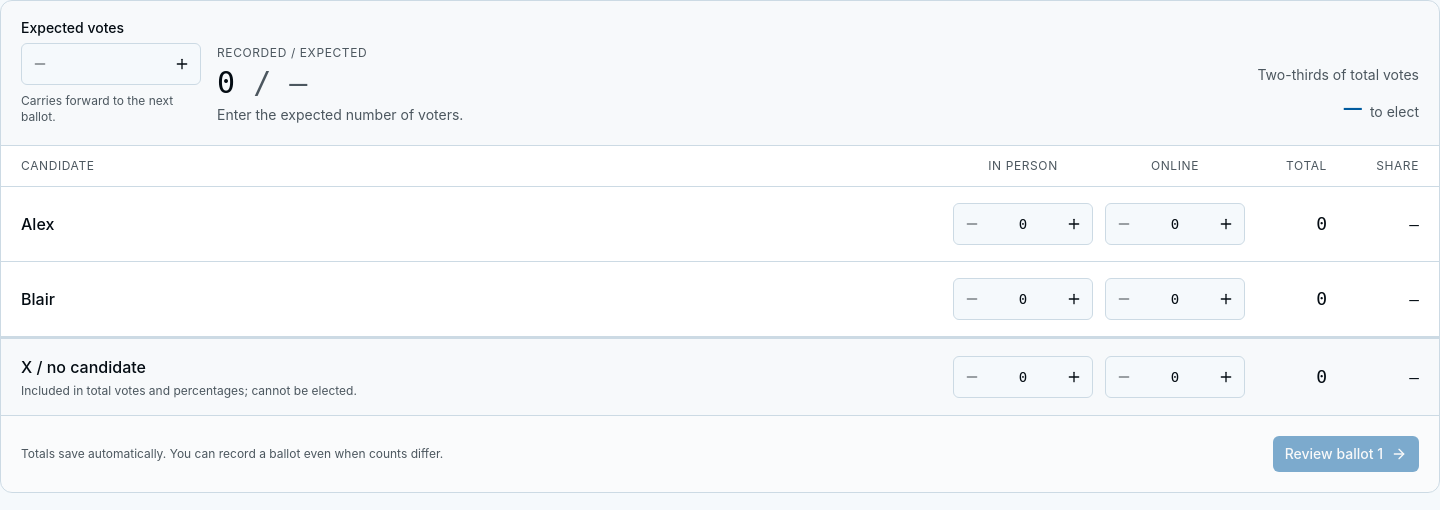
Test: election entry controls › still requires an expected count and valid whole-number counts
The width and height of the screenshot is (1440, 510).
Expected: the button "Review ballot 1" is disabled, [1273, 436, 1419, 472]
Type "100" into the number field labelled "Expected votes" at (111, 64), box [58, 44, 164, 84]
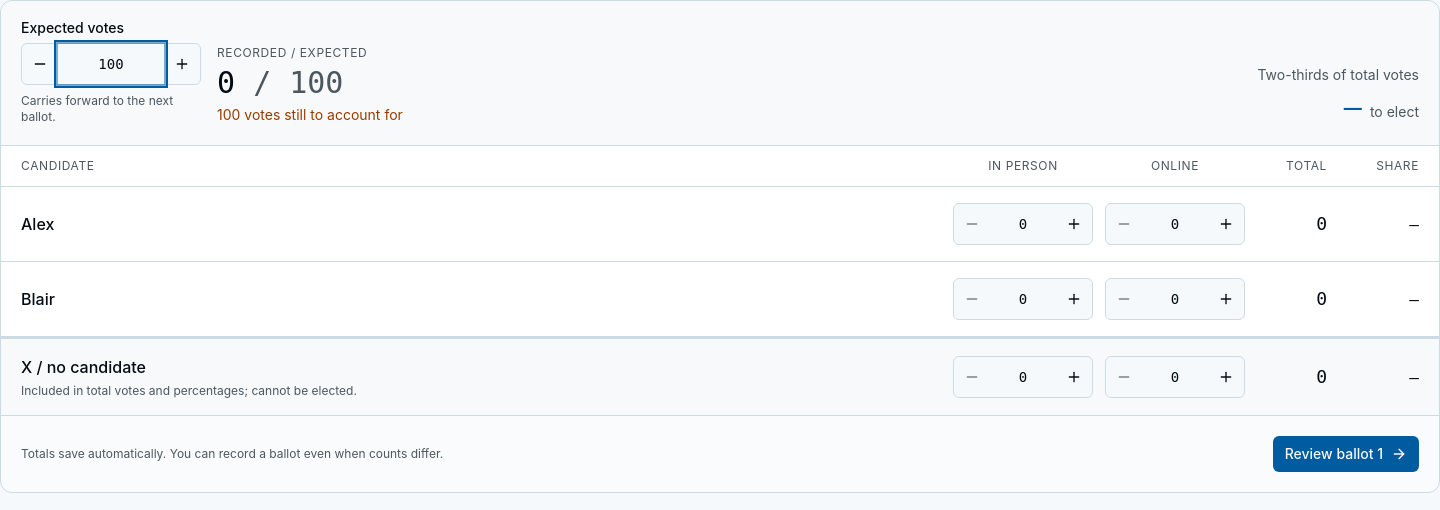
Expected: the button "Review ballot 1" is enabled, [1273, 436, 1419, 472]
Clear the number field named "In person votes for Alex" at (1023, 224), box [990, 204, 1056, 244]
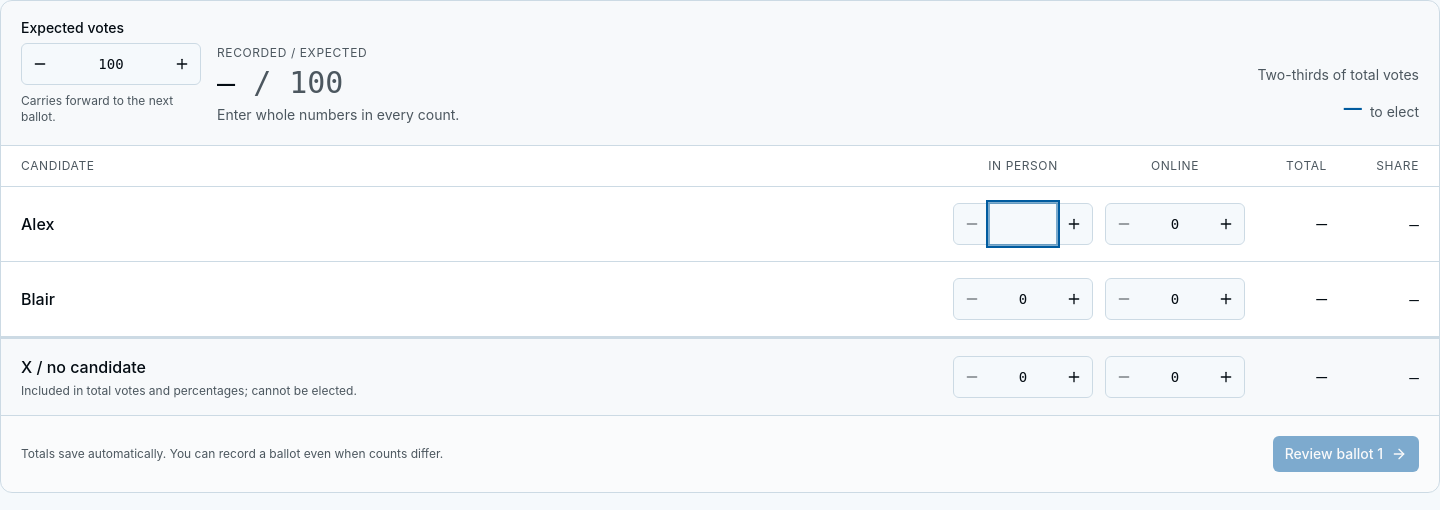
Expected: the button "Review ballot 1" is disabled, [1273, 436, 1419, 472]
